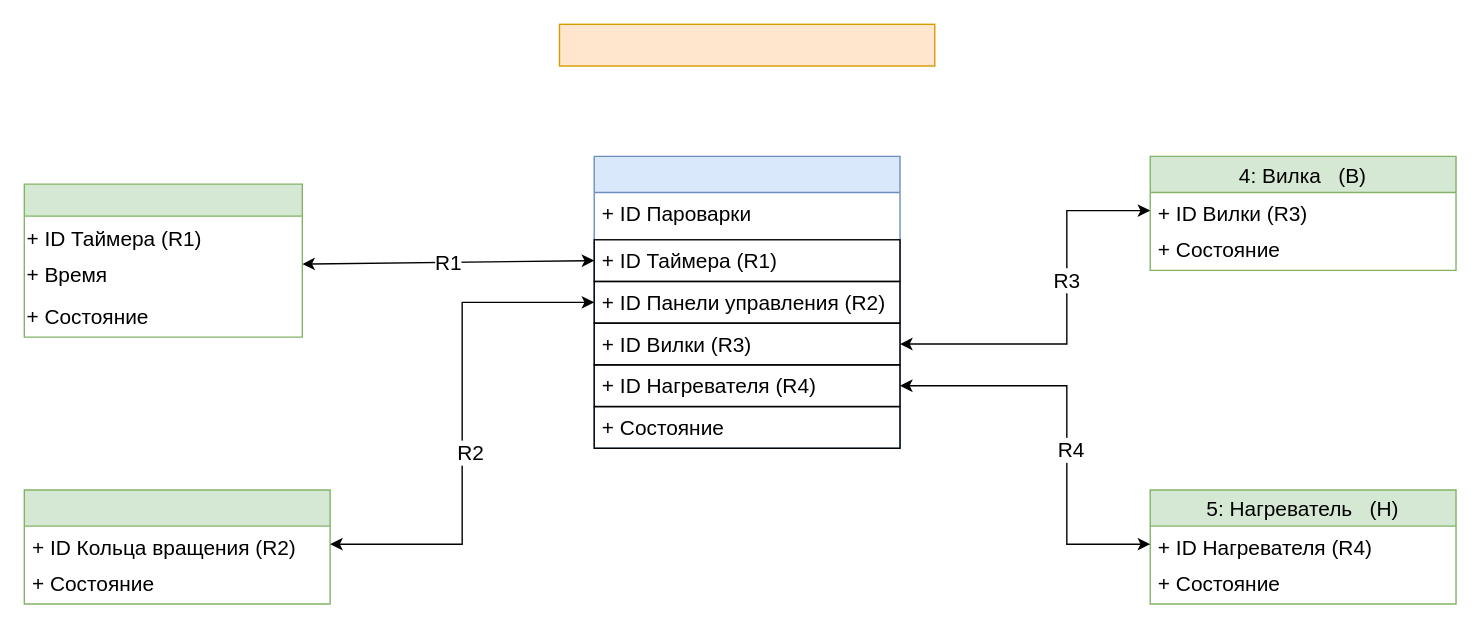
Image size: 1480x632. Some labels were removed from this diagram. Each missing label, with the box of its shape:
1: Пароварка (П): (593, 155, 900, 448)
2.Таймер (Т): (23, 183, 302, 337)
3: Панель управления (У): (23, 489, 330, 604)
Информационная модель: (558, 23, 935, 66)
